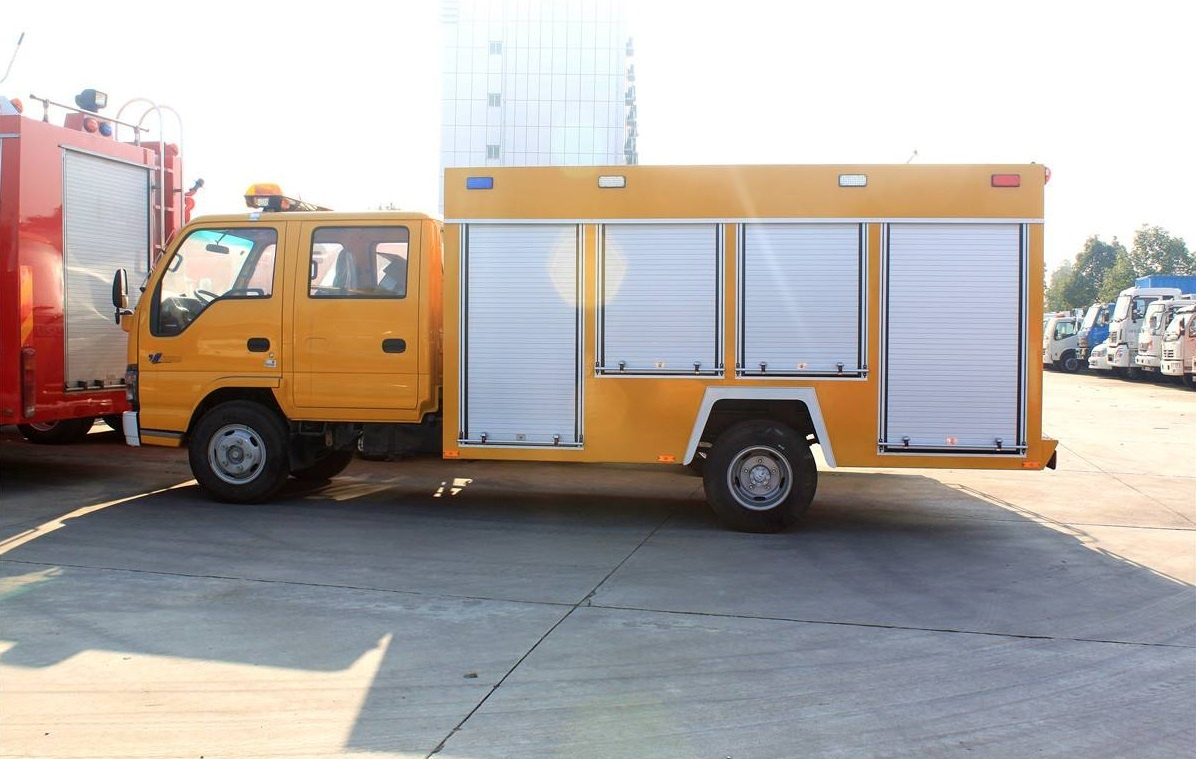fire engine: (109, 160, 1065, 549)
